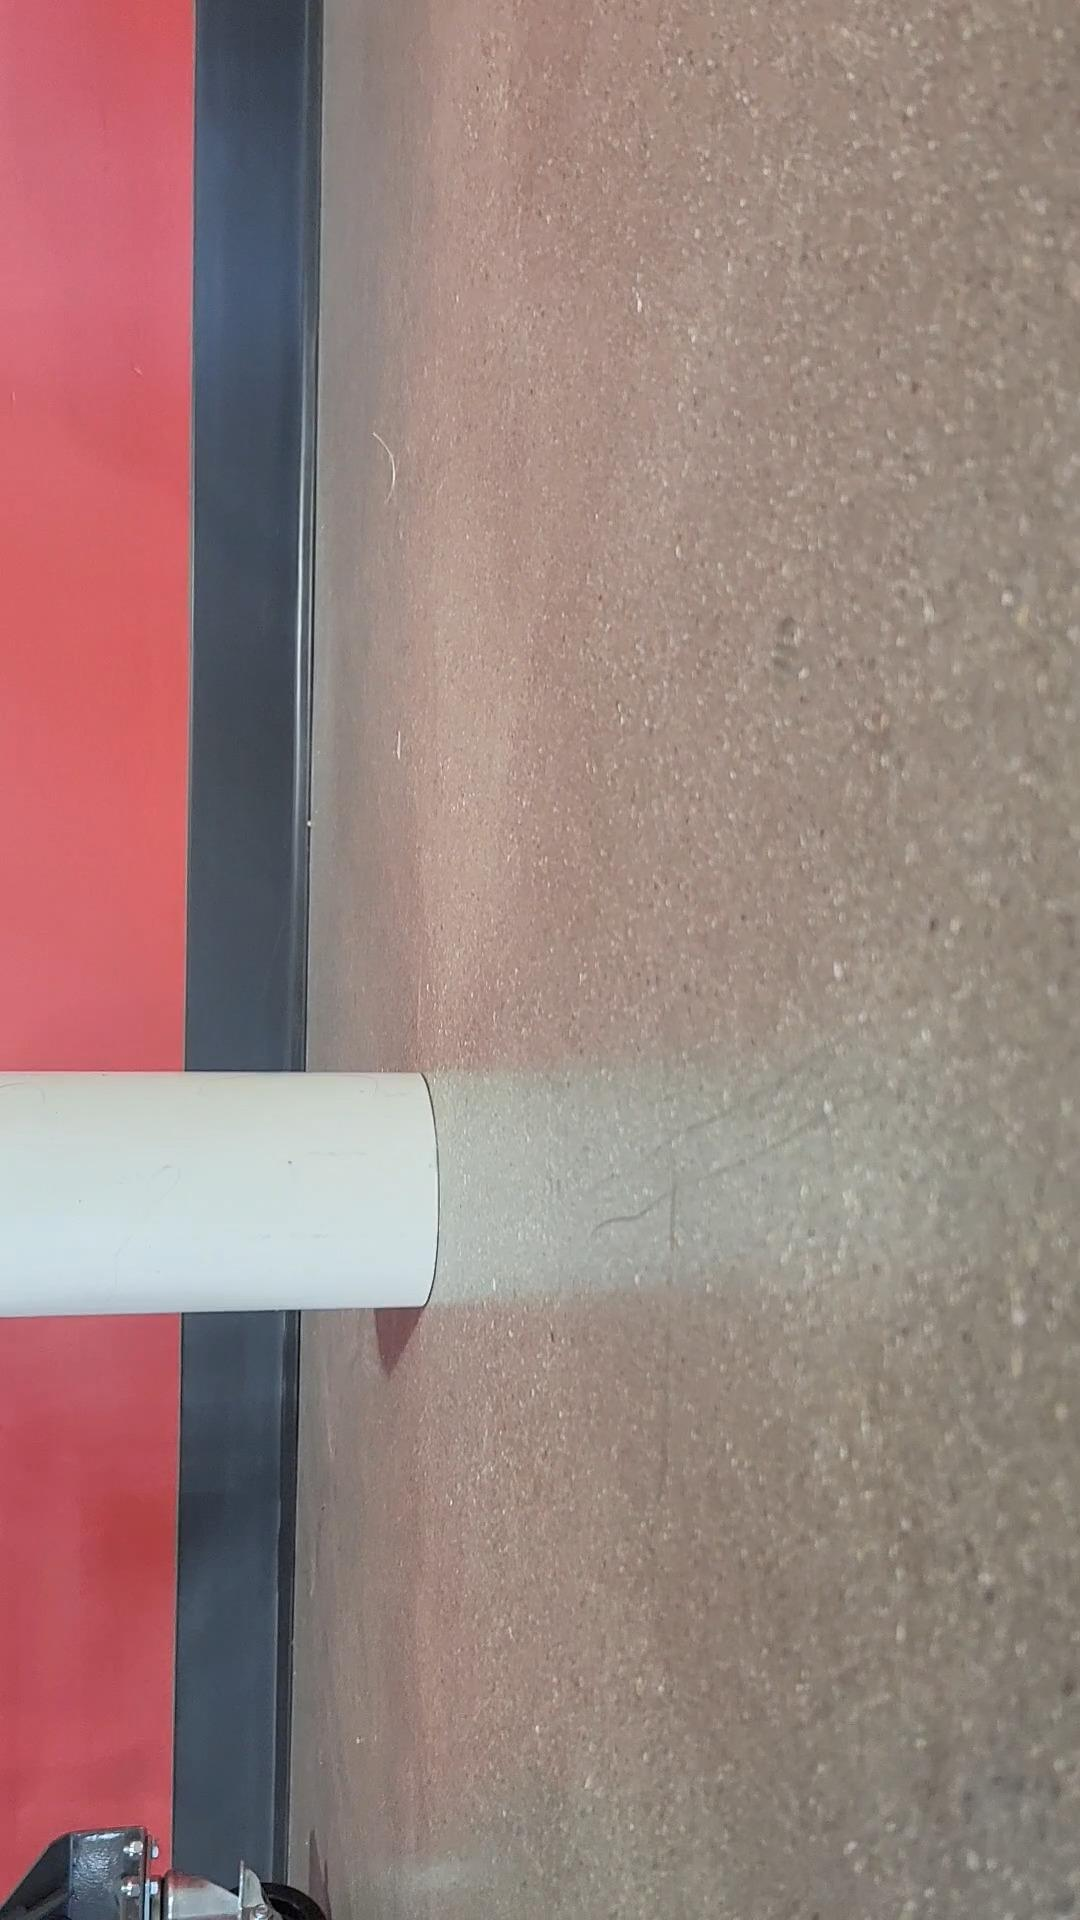coral: (0, 1058, 454, 1324)
